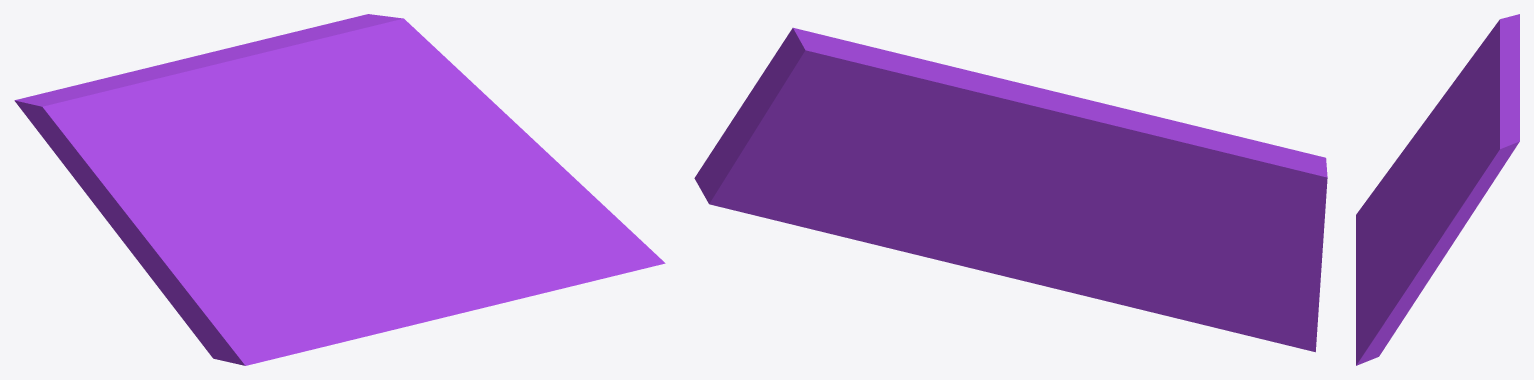
The model's file is Window_132_chunks.fbx.
3 renders of one model, left to right at view 1: azimuth 30°, elevation 25°; view 2: azimuth 150°, elevation 25°; view 3: azimuth 270°, elevation 25°, orthographic. The views are drawn at different scales.
Parts seen in each view (by area): view 1: Window_132_2, Window_132_1, Window_132_3, Window_132_0; view 2: Window_132_1, Window_132_0, Window_132_3, Window_132_2; view 3: Window_132_1, Window_132_3, Window_132_2, Window_132_0.
Part boxes in pixels (x1=…): Window_132_2: x1=38, y1=103, x2=336, y2=365; Window_132_1: x1=333, y1=129, x2=665, y2=343; Window_132_3: x1=221, y1=14, x2=521, y2=185; Window_132_0: x1=14, y1=48, x2=288, y2=153; Window_132_1: x1=694, y1=96, x2=1166, y2=315; Window_132_0: x1=1009, y1=93, x2=1327, y2=215; Window_132_3: x1=748, y1=27, x2=1062, y2=190; Window_132_2: x1=1055, y1=153, x2=1326, y2=352; Window_132_1: x1=1356, y1=183, x2=1451, y2=365; Window_132_3: x1=1430, y1=83, x2=1519, y2=246; Window_132_2: x1=1356, y1=18, x2=1502, y2=247; Window_132_0: x1=1450, y1=14, x2=1519, y2=149.
Size of the model in its own units: 2021 by 763 by 720.
